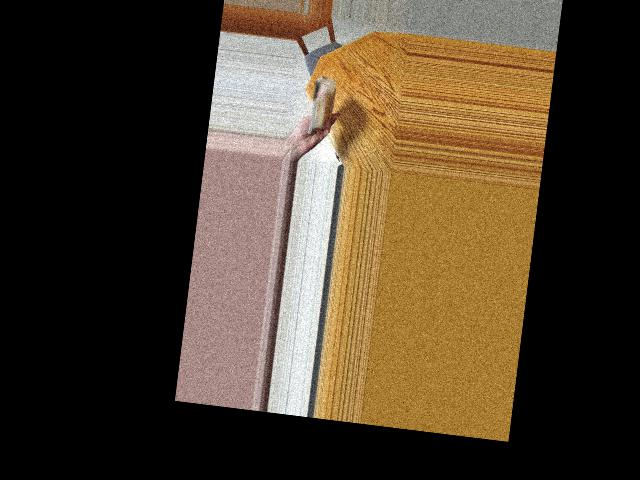cheese: (297, 78, 338, 133)
